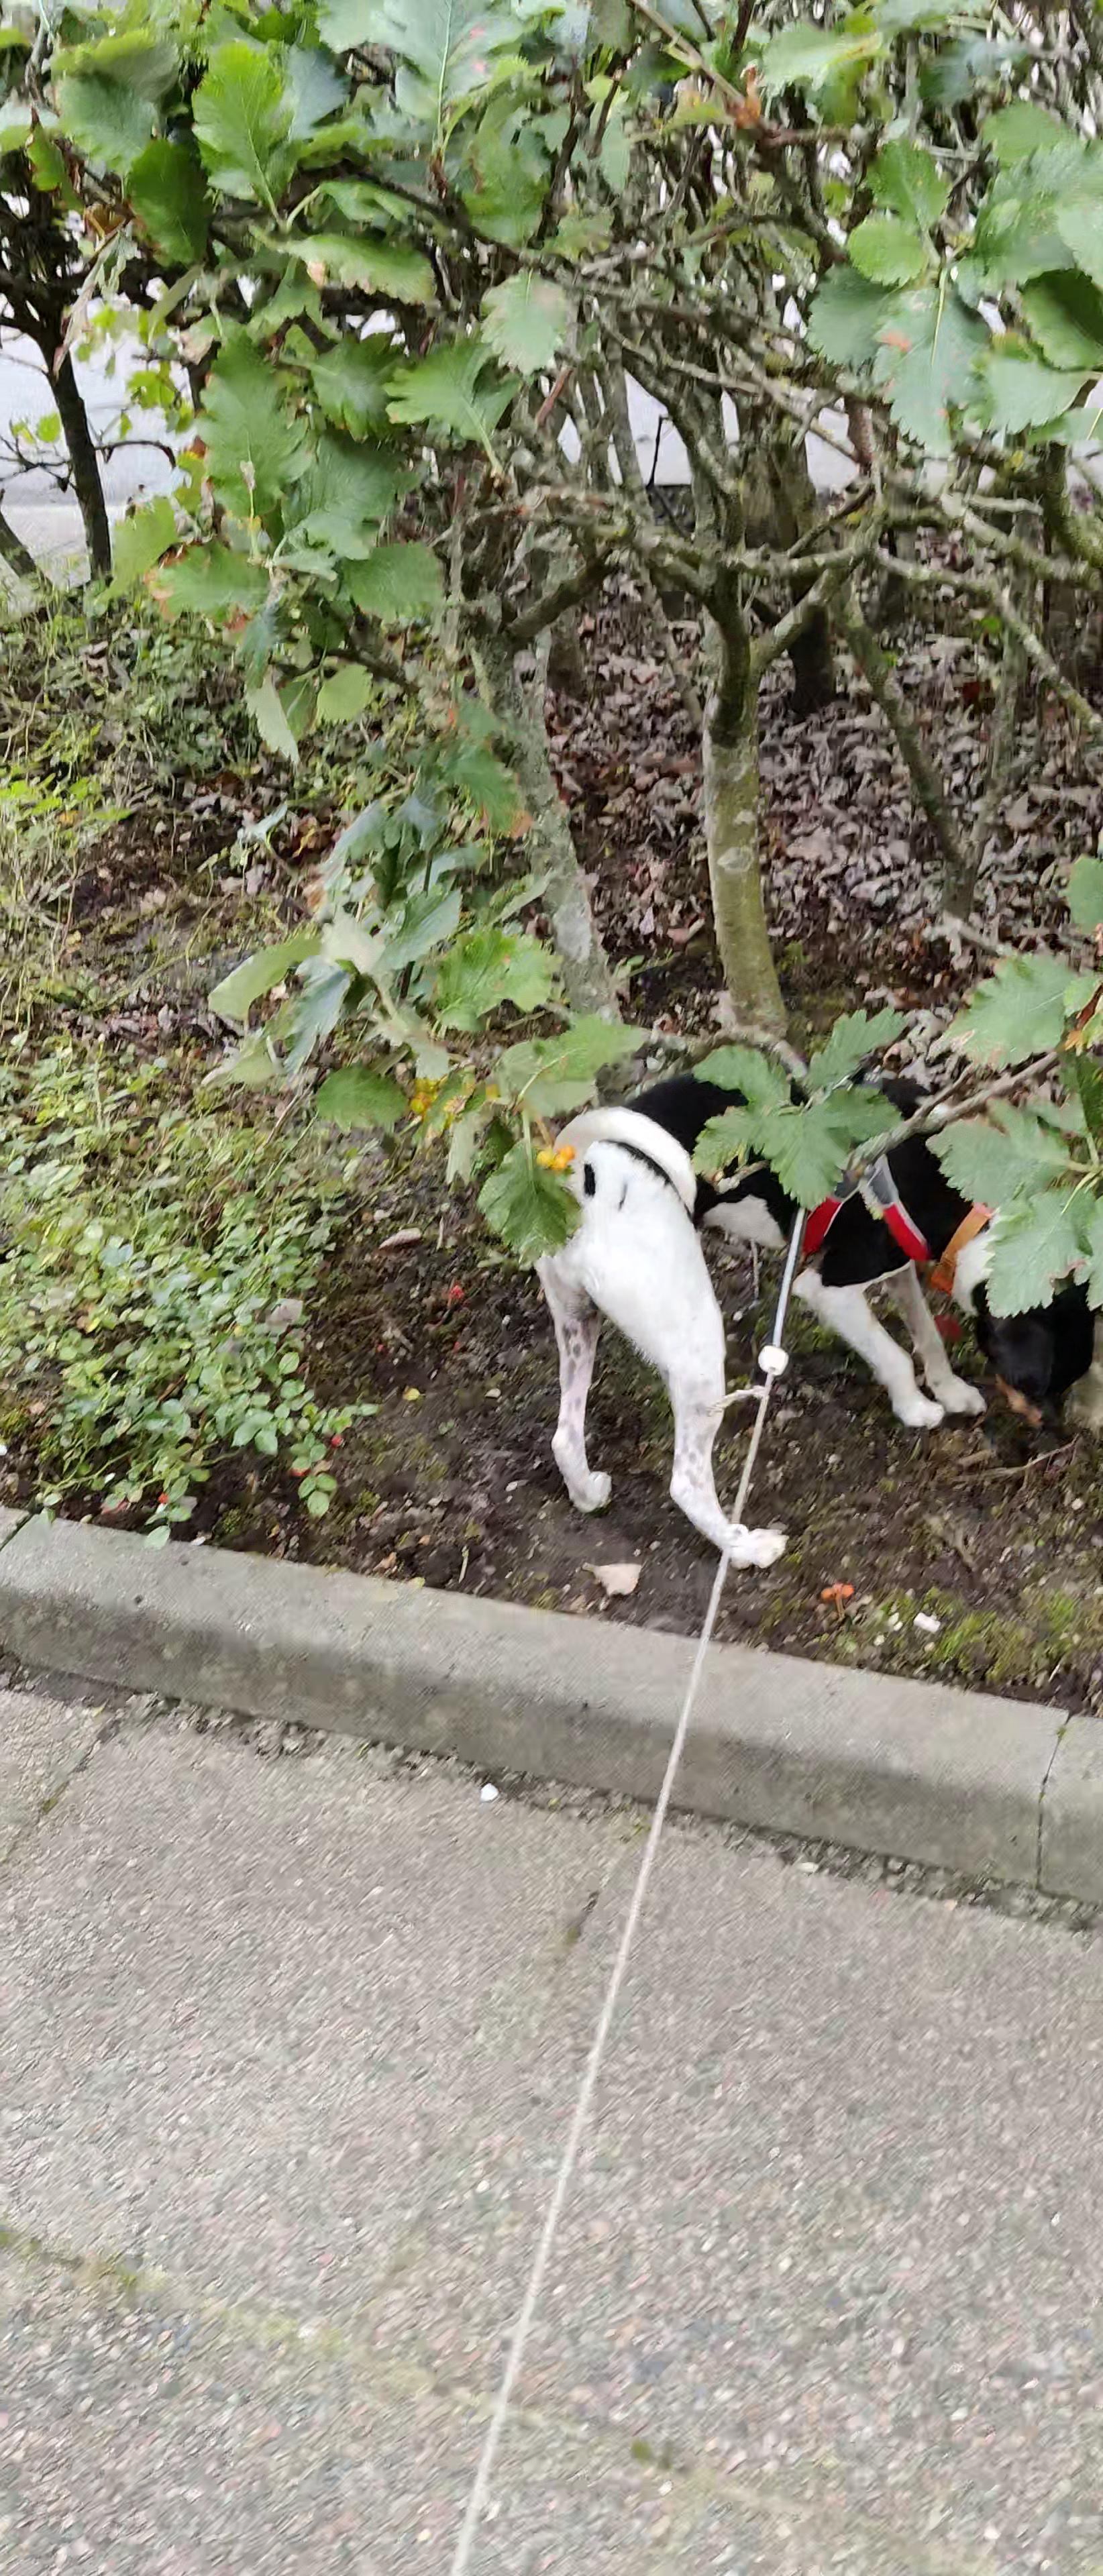Dog: (493, 1032, 1103, 1582)
